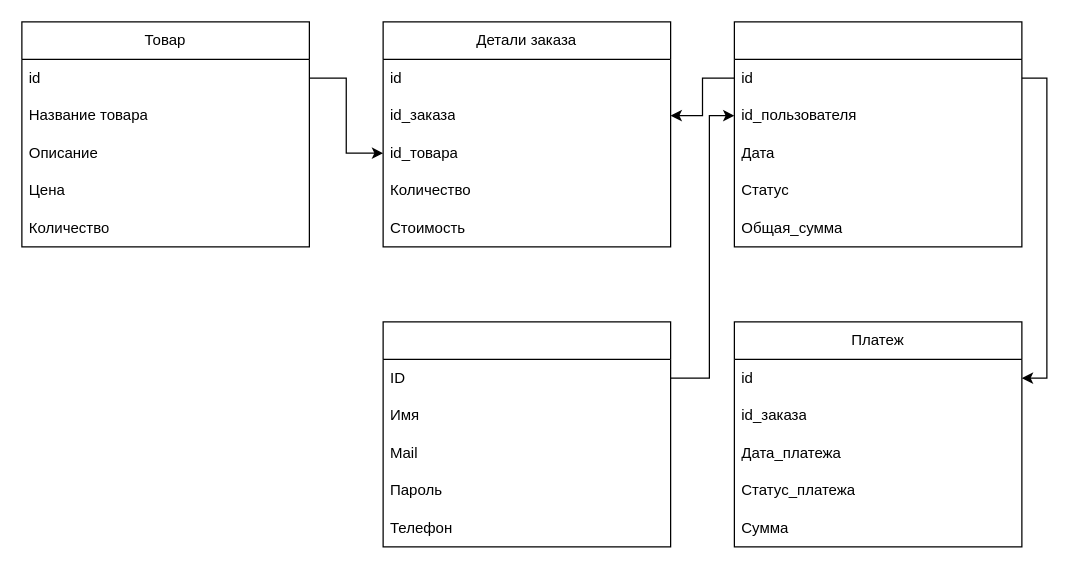
Some shapes in this 1079 by 569 pixel diagram are drawn without their labels. The shapes that lost their labels are listed below. From the top down, each one's box as (x1, y1, x2, y2) in pixels, then its label:
(733, 21, 1022, 247): Заказ
(382, 321, 671, 547): Пользователь
